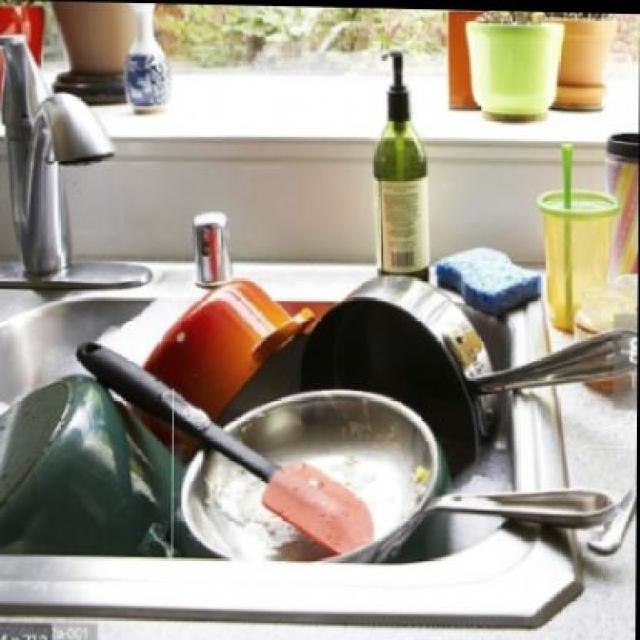pot: (173, 388, 612, 567), (306, 266, 637, 481)
